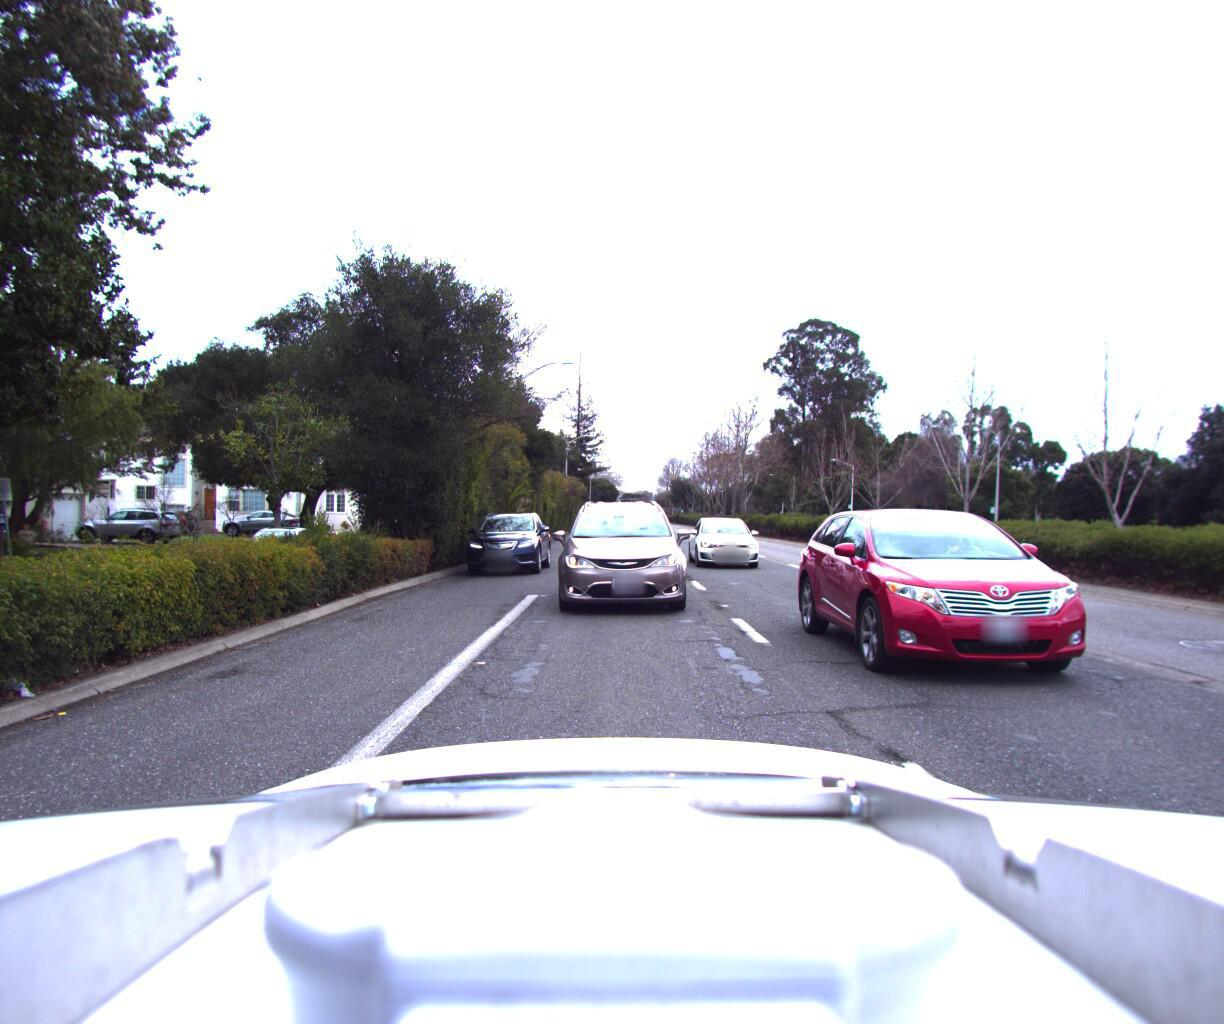car: (801, 505, 1191, 734), (551, 492, 683, 621), (221, 521, 329, 580), (463, 509, 551, 577), (687, 508, 774, 573), (68, 502, 189, 546), (220, 507, 306, 537), (605, 500, 629, 521)
